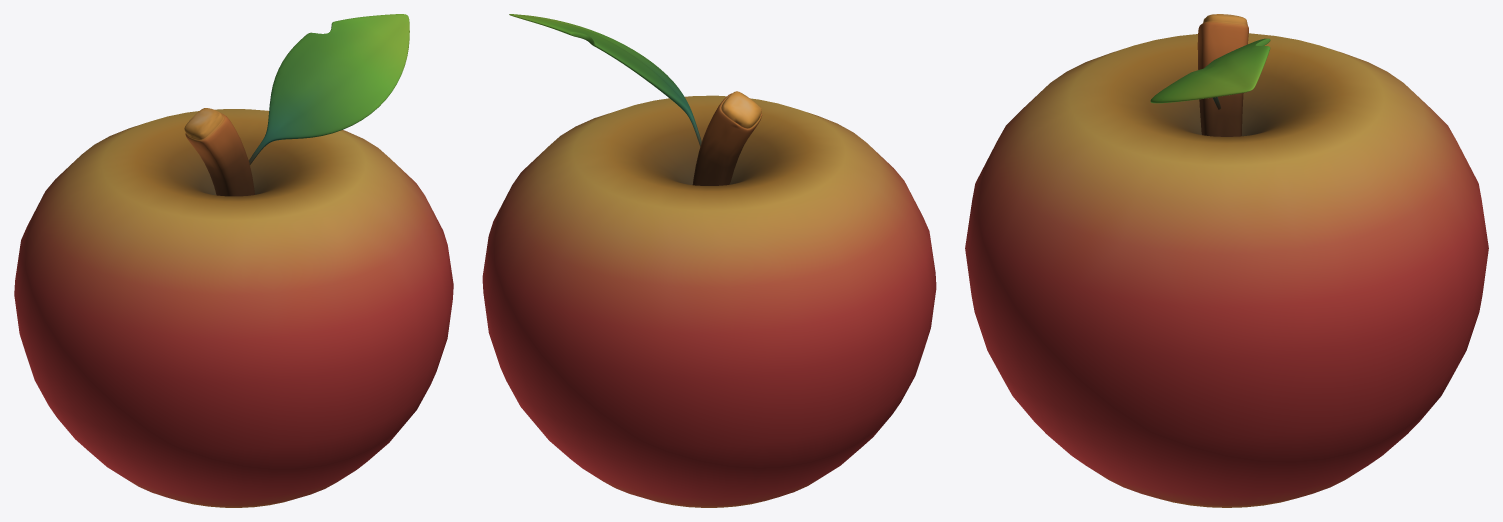
File: apple.fbx
The picture shows the model from 3 angles, left to right: view 1: azimuth 30°, elevation 25°; view 2: azimuth 150°, elevation 25°; view 3: azimuth 270°, elevation 25°; orthographic projection. The views are drawn at different scales.
Visible parts, largest first — view 1: Merged_Apple8_Merged; view 2: Merged_Apple8_Merged; view 3: Merged_Apple8_Merged.
Part boxes in pixels (box(x1,y1,x2,y2)): Merged_Apple8_Merged: box(14, 14, 453, 507); Merged_Apple8_Merged: box(482, 14, 936, 507); Merged_Apple8_Merged: box(965, 14, 1488, 507).
Bounding box in the file's own units: 1.33 × 1.35 × 1.32.
